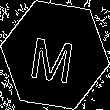M_N: (30, 27, 80, 83)
